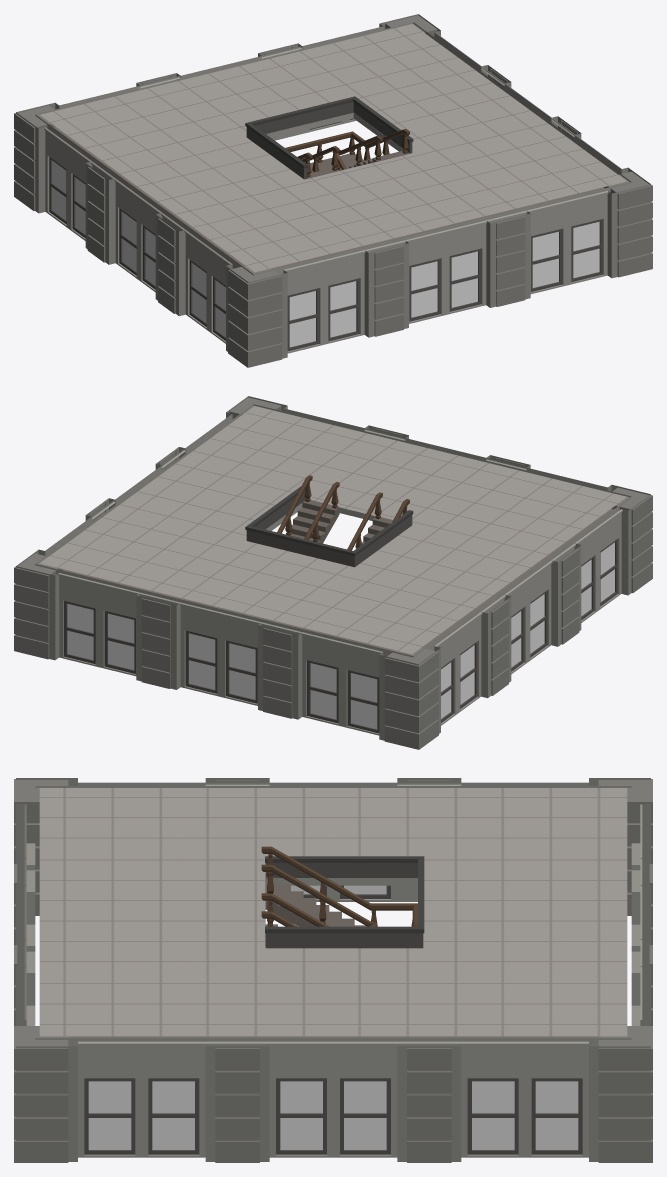
File: SM_Bldg_City_High-Rise_02_Mid.fbx
3 renders of one model, top to bottom at view 1: azimuth 30°, elevation 25°; view 2: azimuth 150°, elevation 25°; view 3: azimuth 270°, elevation 25°, orthographic. The views are drawn at different scales.
Parts seen in each view (by area): view 1: SM_Bldg_City_High-Rise_02_Mid, SM_Bldg_City_High-Rise_02_Mid_Glass; view 2: SM_Bldg_City_High-Rise_02_Mid, SM_Bldg_City_High-Rise_02_Mid_Glass; view 3: SM_Bldg_City_High-Rise_02_Mid, SM_Bldg_City_High-Rise_02_Mid_Glass.
Boxes of the visible parts, box(x1,y1,x2,y2) form: SM_Bldg_City_High-Rise_02_Mid: box(14, 14, 652, 367); SM_Bldg_City_High-Rise_02_Mid_Glass: box(52, 160, 599, 347); SM_Bldg_City_High-Rise_02_Mid: box(14, 396, 652, 749); SM_Bldg_City_High-Rise_02_Mid_Glass: box(67, 542, 614, 729); SM_Bldg_City_High-Rise_02_Mid: box(14, 778, 652, 1162); SM_Bldg_City_High-Rise_02_Mid_Glass: box(88, 885, 578, 1149).
Bounding box in the file's own units: 1500 × 384 × 1500.
